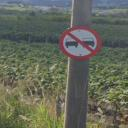NoUltrapassar: (59, 26, 102, 60)
